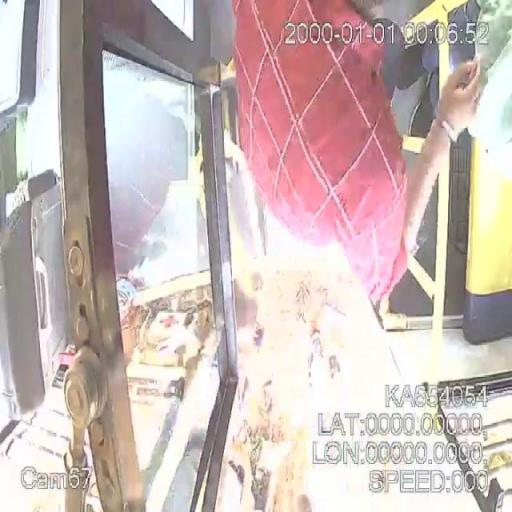persona: (230, 0, 484, 330)
